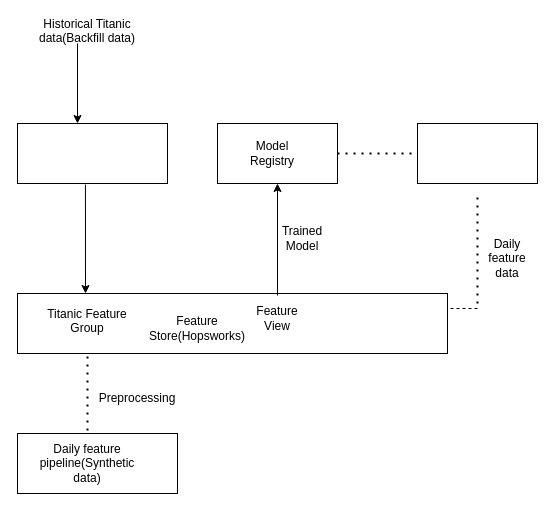
The diagram is 555 pixels wide and 511 high, and some of its shapes have lost their labels. Each missing label, with the centre of its shape:
Inference-Batch: the point at 477,153
Preprocess(Label encoding+imputation values+creation of new features): the point at 92,153
